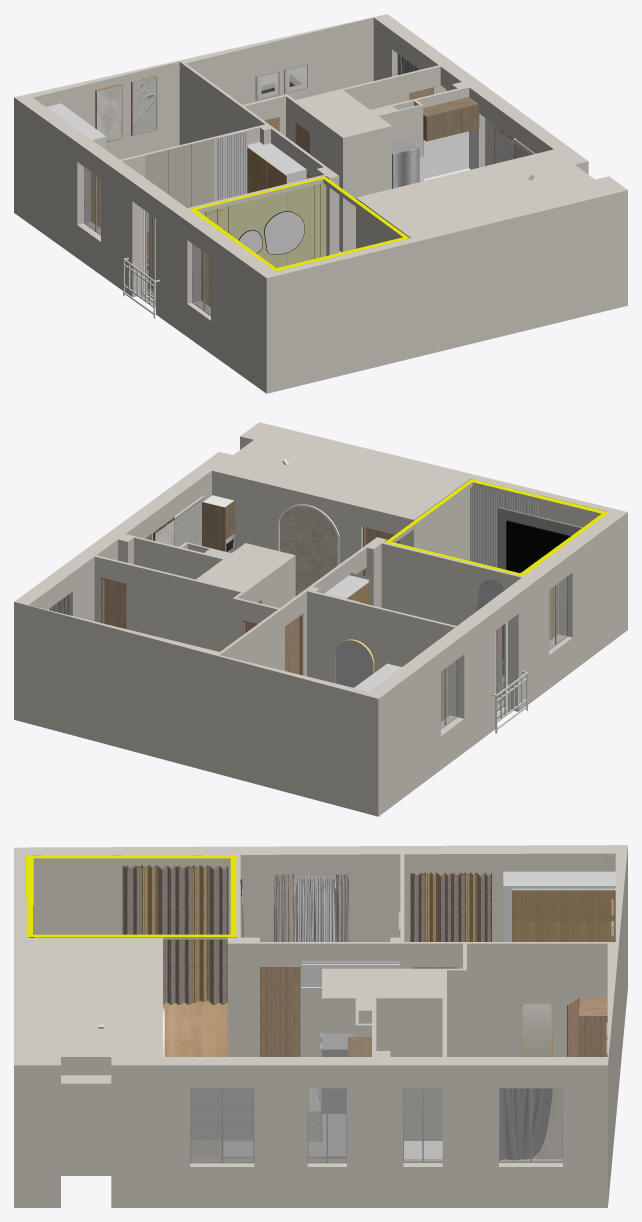
File: burgos-floor-2-room.glb
3 views of the same model, one above another, from view 1: azimuth 30°, elevation 25°; view 2: azimuth 150°, elevation 25°; view 3: azimuth 270°, elevation 25° (orthographic). The views are drawn at different scales.
Parts seen in each view (by area): view 1: S__1658, S__1669, P165__1662, P35__478, S__1666, S__476, P158__1646, P77__922, P80__927, P1__3, S__1123, S__868 (+5 smaller); view 2: S__1658, S__476, S__480, P19__117, S__1666, P12__77, P166__1665, P164__1656, S__1554, P58__832, P160__1652, P46__648 (+4 smaller); view 3: S__1658, P159__1651, S__1636, S__418, P46__648, S__1666, S__868, S__109, S__110, P56__723, P56__726, P172__1696 (+39 smaller).
Boxes of the visible parts, bbox=[...] form: S__1658: bbox=[14, 14, 627, 393]; S__1669: bbox=[202, 183, 325, 267]; P165__1662: bbox=[145, 138, 213, 231]; P35__478: bbox=[419, 129, 479, 181]; S__1666: bbox=[189, 176, 409, 271]; S__476: bbox=[420, 88, 553, 158]; P158__1646: bbox=[264, 211, 304, 254]; P77__922: bbox=[217, 130, 247, 200]; P80__927: bbox=[133, 77, 156, 134]; P1__3: bbox=[97, 85, 121, 141]; S__1123: bbox=[247, 140, 306, 183]; S__868: bbox=[46, 103, 106, 149]; S__1658: bbox=[14, 422, 627, 816]; S__476: bbox=[126, 471, 361, 564]; S__480: bbox=[280, 506, 337, 595]; P19__117: bbox=[506, 520, 570, 572]; S__1666: bbox=[385, 479, 608, 576]; P12__77: bbox=[335, 640, 373, 687]; P166__1665: bbox=[497, 507, 582, 569]; P164__1656: bbox=[101, 577, 126, 628]; S__1554: bbox=[471, 478, 491, 565]; P58__832: bbox=[202, 502, 225, 551]; P160__1652: bbox=[285, 613, 303, 675]; P46__648: bbox=[175, 501, 201, 546]; S__1658: bbox=[14, 845, 627, 1207]; P159__1651: bbox=[260, 967, 300, 1056]; S__1636: bbox=[163, 1000, 227, 1056]; S__418: bbox=[500, 1088, 552, 1160]; P46__648: bbox=[191, 1088, 252, 1139]; S__1666: bbox=[25, 855, 236, 937]; S__868: bbox=[503, 871, 615, 941]; S__109: bbox=[209, 867, 227, 1004]; S__110: bbox=[176, 867, 194, 1004]; P56__723: bbox=[191, 1088, 221, 1162]; P56__726: bbox=[223, 1088, 253, 1162]; P172__1696: bbox=[500, 1088, 529, 1161].
Size of the model in its own units: 9.35 by 3.19 by 10.92.
Materials: 97 (60 with a texture image).
